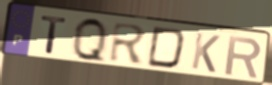D: (145, 25, 188, 71)
K: (190, 31, 223, 75)
Q: (72, 15, 108, 66)
R: (222, 34, 263, 80), (107, 21, 148, 66)
T: (39, 14, 70, 56)
